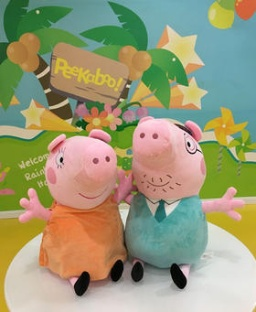Peppa: (21, 131, 126, 296)
